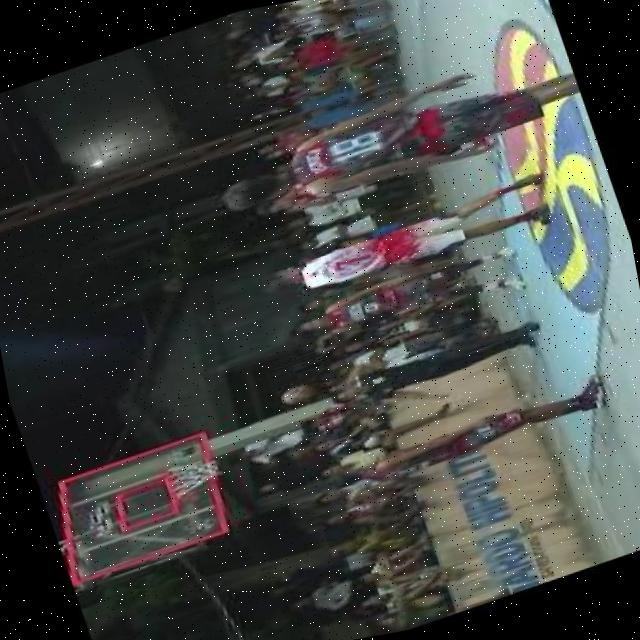ball: (272, 376, 320, 409)
hoop: (158, 464, 182, 509)
